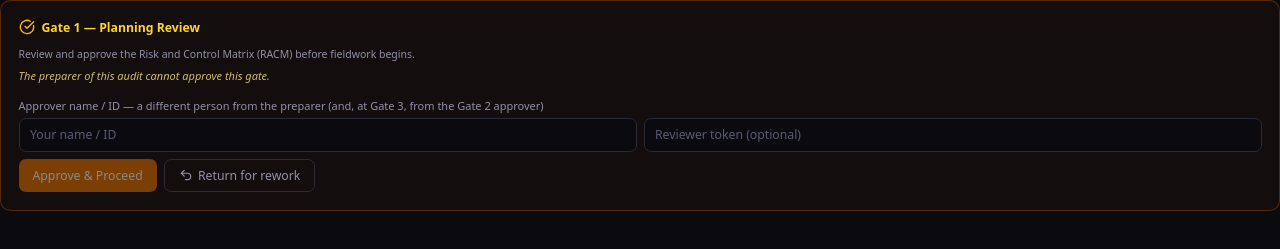
Test: ApprovalGate › shows the 409 message verbatim on a blocked approval
The width and height of the screenshot is (1280, 249).
In the field with placeholder "Your name / ID": (328, 135) [18,118,636,152], type "J. Rivera"
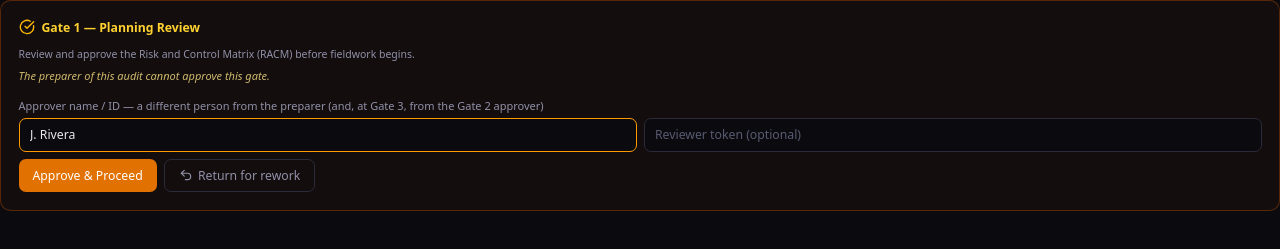
Click the button "Approve & Proceed": (88, 175) [18,158,157,192]
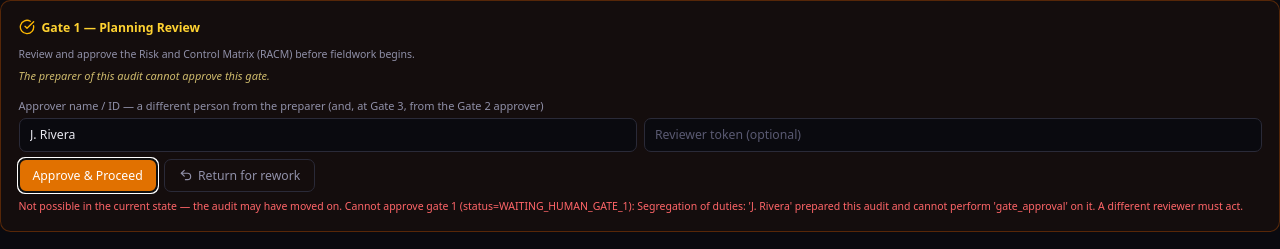
Result: the text "Segregation of duties: 'J. Rivera' prepared this audit" is shown at [18,199,1243,213]
